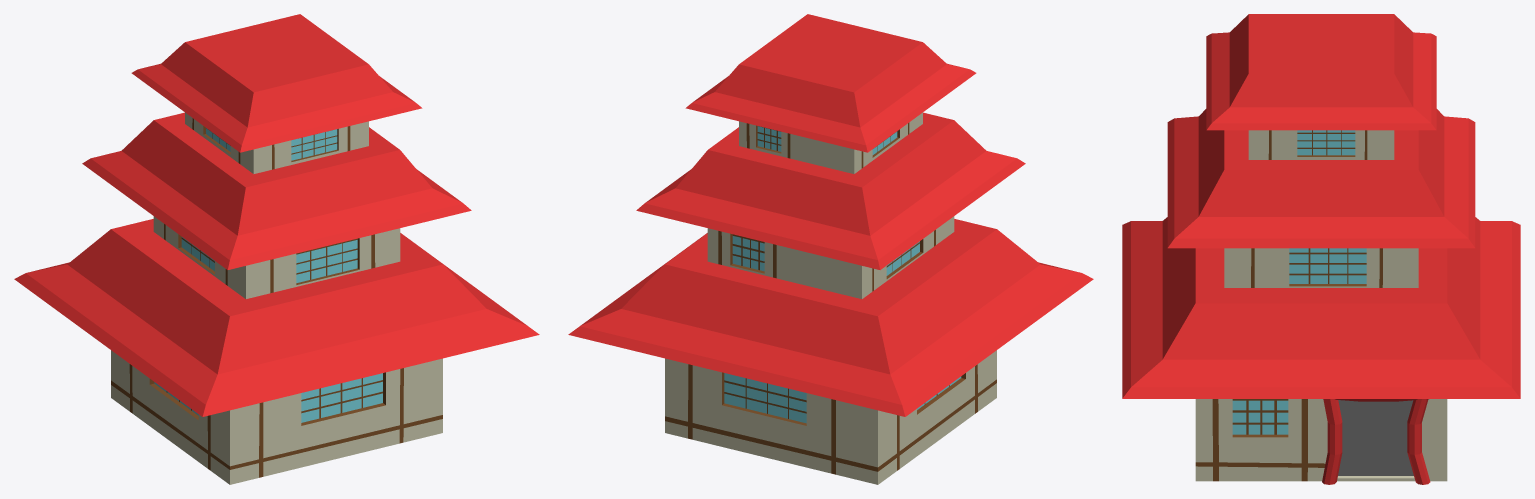
The model's file is Chinese house 1.fbx.
3 views of the same model, side by side, from view 1: azimuth 30°, elevation 25°; view 2: azimuth 150°, elevation 25°; view 3: azimuth 270°, elevation 25° (orthographic). The views are drawn at different scales.
Parts seen in each view (by area): view 1: Cube, Cube.001, Cube.002; view 2: Cube, Cube.001, Cube.002; view 3: Cube, Cube.001, Cube.002, Cylinder, Cylinder.001.
Boxes of the visible parts, x1,y1,x2,y2 form: Cube: (14, 219, 539, 484); Cube.001: (82, 112, 471, 298); Cube.002: (131, 14, 422, 173); Cube: (568, 219, 1093, 484); Cube.001: (636, 112, 1025, 298); Cube.002: (685, 14, 976, 173); Cube: (1122, 217, 1520, 481); Cube.001: (1167, 109, 1475, 287); Cube.002: (1206, 14, 1436, 159); Cylinder: (1322, 399, 1342, 484); Cylinder.001: (1407, 399, 1430, 484).
Size of the model in its own units: 557 by 571 by 539.
